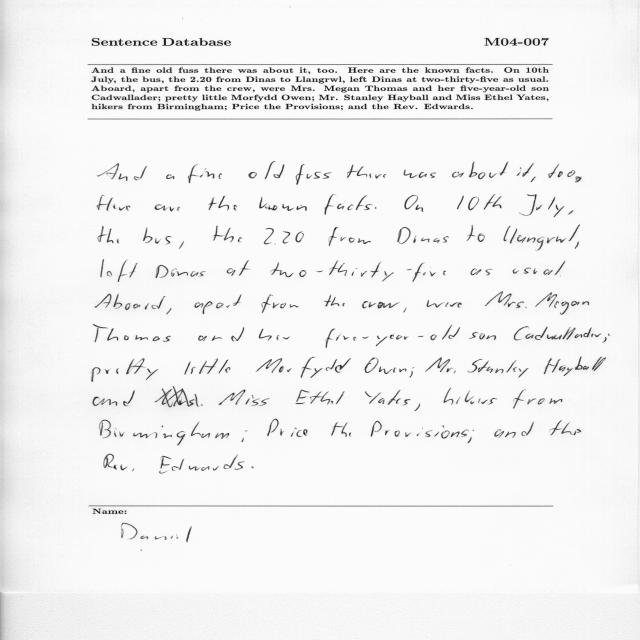word: (271, 261, 446, 282), (100, 420, 229, 445), (326, 325, 460, 348), (256, 357, 351, 378), (504, 225, 580, 250), (371, 421, 469, 439), (405, 195, 502, 212), (159, 455, 245, 474), (92, 358, 159, 382), (94, 325, 171, 343), (514, 326, 602, 341), (535, 292, 589, 315), (544, 357, 606, 376), (468, 359, 529, 378), (365, 390, 420, 411), (95, 294, 165, 310), (519, 195, 565, 218), (155, 387, 203, 408), (452, 162, 508, 179), (513, 390, 563, 409), (444, 388, 497, 405), (97, 163, 147, 181), (397, 227, 449, 244), (195, 295, 241, 314), (101, 259, 138, 282), (219, 390, 270, 406), (329, 227, 371, 246), (185, 358, 231, 375), (513, 261, 565, 276), (296, 164, 332, 185), (267, 419, 308, 437), (261, 294, 299, 313), (296, 390, 345, 404), (264, 228, 304, 245), (494, 421, 534, 438), (259, 197, 307, 211), (485, 292, 527, 308), (93, 390, 135, 406), (365, 358, 406, 374), (156, 265, 206, 278), (188, 164, 222, 183), (199, 327, 245, 341), (249, 162, 285, 179), (324, 195, 353, 215), (98, 195, 131, 211), (104, 454, 134, 471), (347, 165, 386, 178), (213, 226, 242, 243), (426, 358, 456, 374), (143, 228, 171, 245), (551, 421, 582, 436), (209, 196, 237, 210), (549, 164, 576, 178), (98, 226, 119, 244), (259, 329, 290, 341), (227, 260, 250, 276), (466, 225, 485, 242), (356, 195, 376, 210), (331, 422, 351, 437), (403, 170, 436, 178), (362, 301, 399, 308), (427, 300, 462, 307), (324, 295, 345, 306), (517, 164, 534, 177), (469, 332, 496, 340), (155, 205, 180, 212), (471, 269, 493, 275), (468, 430, 474, 443), (242, 431, 248, 442), (603, 334, 610, 343), (409, 367, 414, 378), (166, 174, 175, 179), (575, 177, 582, 183), (179, 241, 184, 249), (166, 309, 172, 315), (575, 242, 579, 249), (531, 177, 536, 182), (568, 210, 573, 215), (403, 308, 407, 313), (252, 466, 254, 468), (353, 205, 354, 206), (560, 275, 561, 276)
